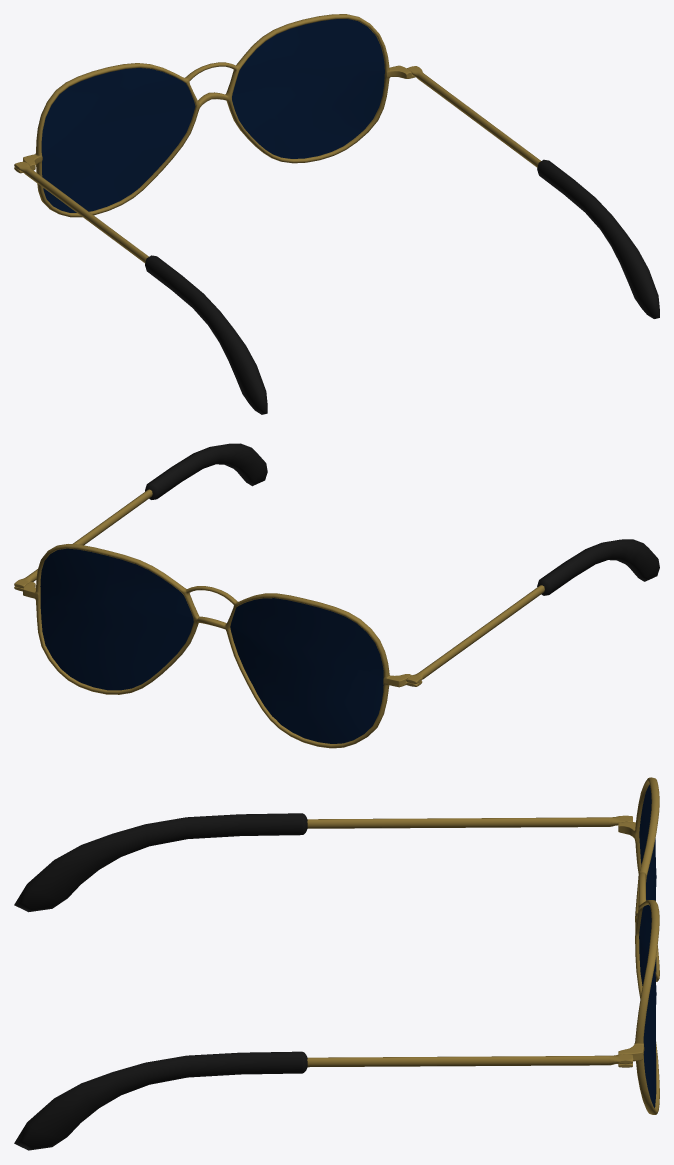
3 views of the same model, one above another, from view 1: azimuth 30°, elevation 25°; view 2: azimuth 150°, elevation 25°; view 3: azimuth 270°, elevation 25° (orthographic). The views are drawn at different scales.
Visible parts, largest first — view 1: Aviator_Lens_R, Aviator_Lens_L, Aviators_Aviators_Frame, Aviators_earpiece_R, Aviators_earpiece_L, Aviators_arm_L, Aviators_arm_R; view 2: Aviator_Lens_L, Aviator_Lens_R, Aviators_Aviators_Frame, Aviators_earpiece_R, Aviators_earpiece_L, Aviators_arm_L, Aviators_arm_R; view 3: Aviators_earpiece_L, Aviators_earpiece_R, Aviators_Aviators_Frame, Aviators_arm_R, Aviators_arm_L, Aviator_Lens_R, Aviator_Lens_L.
Boxes of the visible parts, bbox=[...] form: Aviator_Lens_R: bbox=[232, 19, 384, 158]; Aviator_Lens_L: bbox=[41, 68, 195, 212]; Aviators_Aviators_Frame: bbox=[14, 14, 415, 217]; Aviators_earpiece_R: bbox=[537, 159, 659, 318]; Aviators_earpiece_L: bbox=[145, 255, 267, 414]; Aviators_arm_L: bbox=[14, 161, 148, 263]; Aviators_arm_R: bbox=[407, 66, 540, 167]; Aviator_Lens_L: bbox=[230, 598, 383, 743]; Aviator_Lens_R: bbox=[40, 548, 193, 690]; Aviators_Aviators_Frame: bbox=[14, 544, 422, 748]; Aviators_earpiece_R: bbox=[145, 443, 267, 499]; Aviators_earpiece_L: bbox=[537, 539, 659, 595]; Aviators_arm_L: bbox=[406, 585, 544, 683]; Aviators_arm_R: bbox=[14, 489, 152, 588]; Aviators_earpiece_L: bbox=[14, 813, 307, 912]; Aviators_earpiece_R: bbox=[14, 1051, 307, 1150]; Aviators_Aviators_Frame: bbox=[618, 777, 659, 1114]; Aviators_arm_R: bbox=[307, 1054, 632, 1067]; Aviators_arm_L: bbox=[307, 815, 632, 828]; Aviator_Lens_R: bbox=[639, 904, 656, 1107]; Aviator_Lens_L: bbox=[639, 784, 656, 972].
Size of the model in its own units: 19.31 by 6.46 by 21.16.
